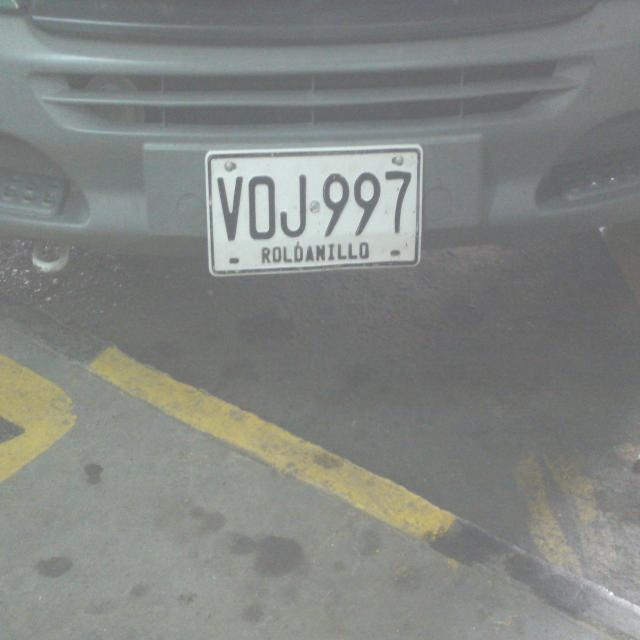placa: (200, 139, 426, 275)
